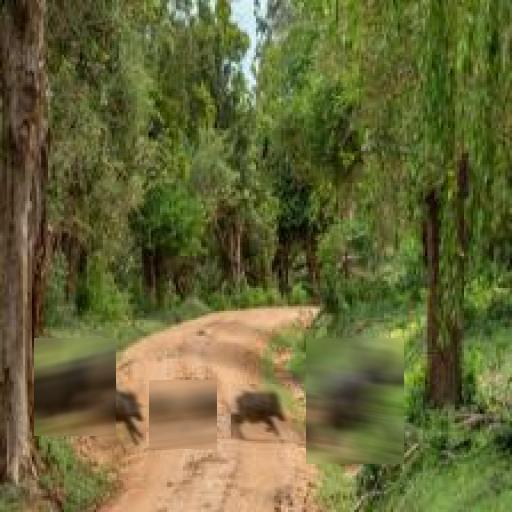Pig: (306, 338, 404, 464), (34, 338, 116, 436), (149, 380, 217, 449), (92, 384, 146, 445), (231, 386, 290, 440)
